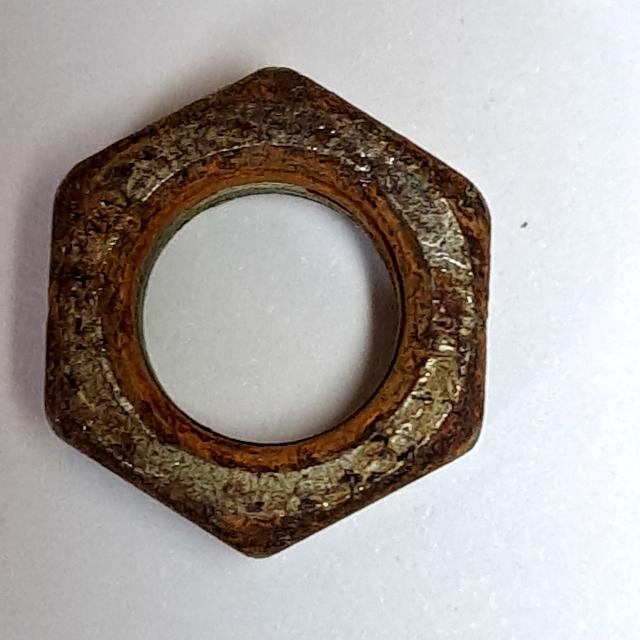Rust: (32, 55, 504, 573)
